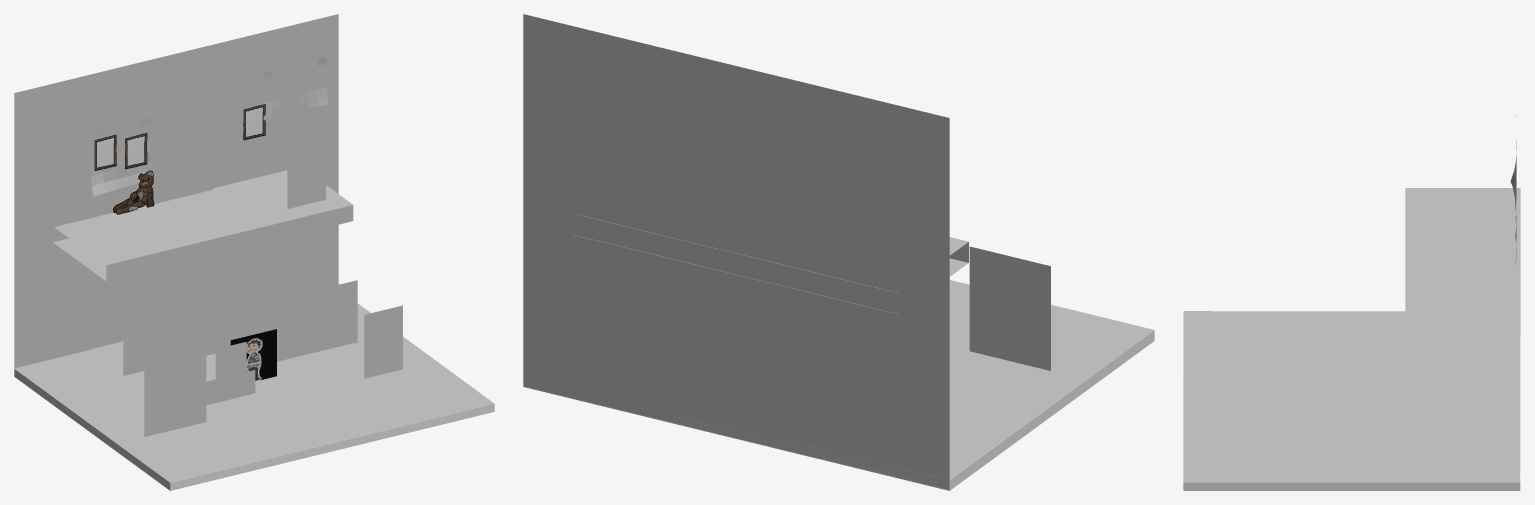
File: scenes_0106_Pack.fbx
3 views of the same model, side by side, from view 1: azimuth 30°, elevation 25°; view 2: azimuth 150°, elevation 25°; view 3: azimuth 270°, elevation 25° (orthographic). The views are drawn at different scales.
Visible parts, largest first — view 1: Plane.010, Plane.001, Cube.002, Plane.005, Plane.004, Plane.016, Plane.015, Plane.044, Plane.023, Cube, Plane.018, Plane.026 (+16 smaller); view 2: Plane.010, Plane.001, Plane.044, Plane.004, Cube, Cube.002; view 3: Plane.004, Plane.001, Cube.002, Cube.
Boxes of the visible parts, <box> form: Plane.010: <box>14,14,338,368</box>; Plane.001: <box>14,303,493,482</box>; Cube.002: <box>53,170,353,281</box>; Plane.005: <box>123,234,300,375</box>; Plane.004: <box>91,341,428,442</box>; Plane.016: <box>265,280,357,361</box>; Plane.015: <box>151,101,212,203</box>; Plane.044: <box>144,342,206,436</box>; Plane.023: <box>221,109,306,185</box>; Cube: <box>14,368,494,490</box>; Plane.018: <box>36,97,114,182</box>; Plane.026: <box>263,56,327,119</box>; Plane.010: <box>523,14,949,489</box>; Plane.001: <box>919,280,1154,479</box>; Plane.044: <box>969,246,1050,370</box>; Plane.004: <box>949,309,1066,414</box>; Cube: <box>523,330,1154,490</box>; Cube.002: <box>574,214,968,314</box>; Plane.004: <box>1221,320,1519,471</box>; Plane.001: <box>1183,311,1520,481</box>; Cube.002: <box>1405,188,1520,335</box>; Cube: <box>1183,311,1520,490</box>.
Size of the model in its own units: 420 by 351 by 351.
